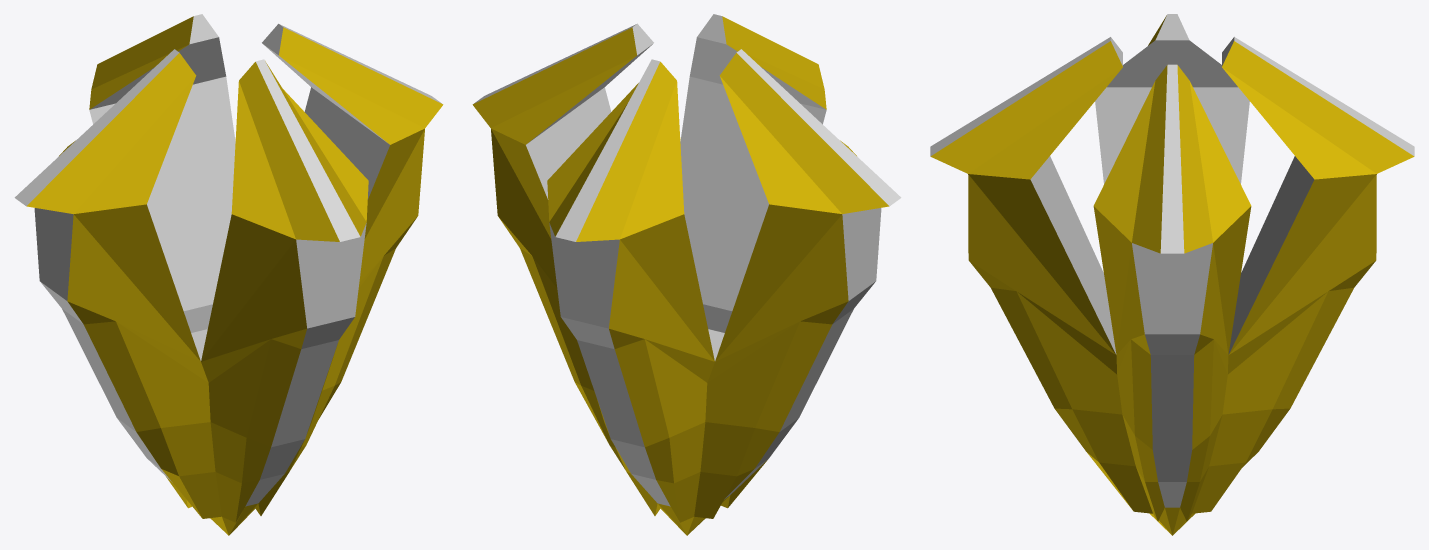
File: clawClosed.fbx
The picture shows the model from 3 angles, left to right: view 1: azimuth 30°, elevation 25°; view 2: azimuth 150°, elevation 25°; view 3: azimuth 270°, elevation 25°; orthographic projection.
Visible parts, largest first — view 1: Plane; view 2: Plane; view 3: Plane.
Part boxes in pixels (x1,y1,x2,y2): Plane: [14, 14, 443, 535]; Plane: [472, 14, 901, 535]; Plane: [930, 14, 1414, 535].
Size of the model in its own units: 225 by 257 by 227.
